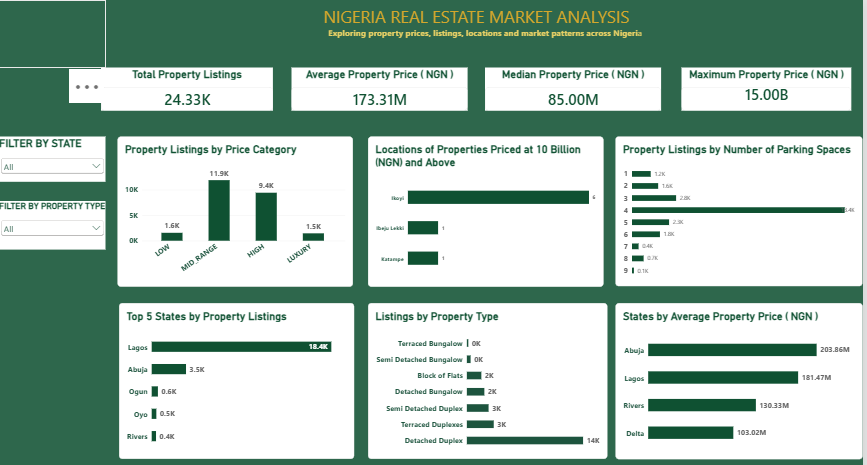

The dashboard page shown, as its layout file describes it:
{"tool":"powerbi","page":{"name":"DASHBOARD","canvas":[1920,1080],"ordinal":0},"visuals":[{"type":"cardVisual","title":"Total Property Listings","fields":{"Data":["CountNonNull(public nigeria_real_estate.price)"]},"box":[225,149.2,382.2,96.1],"z":0},{"type":"cardVisual","title":"Average Property Price ( NGN )","fields":{"Data":["Parking_Space_Summary.Avg Price"]},"box":[649,149.2,391.5,96.1],"z":1000},{"type":"cardVisual","title":"Maximum Property Price ( NGN )","fields":{"Data":["Parking_Space_Summary.Max Price Label"]},"box":[1515.8,149.2,377.5,96.1],"z":2000},{"type":"clusteredColumnChart","title":"Property Listings by Price Category","fields":{"Category":["public nigeria_real_estate.price_category"],"Y":["CountNonNull(public nigeria_real_estate.price)"]},"box":[264.9,304.8,523.4,334],"z":3000},{"type":"clusteredBarChart","title":"Locations of Properties Priced at 10 Billion (NGN)  and Above","fields":{"Category":["public nigeria_real_estate.town"],"Y":["CountNonNull(public nigeria_real_estate.town)"]},"box":[820.6,304.8,523.4,334],"z":4000},{"type":"clusteredBarChart","title":"Property Listings by Number of Parking Spaces","fields":{"Category":["Parking_Space_Summary.parking_space"],"Y":["Sum(Parking_Space_Summary.Property_Count)"]},"box":[1371.5,304.8,548.6,332.9],"z":5000},{"type":"clusteredBarChart","title":"Top 5 States by Property Listings","fields":{"Category":["public nigeria_real_estate.state"],"Y":["CountNonNull(public nigeria_real_estate.state)"]},"box":[267.3,672.9,522.8,346.6],"z":6000},{"type":"clusteredBarChart","title":"Listings by Property Type","fields":{"Category":["public nigeria_real_estate.title"],"Y":["CountNonNull(public nigeria_real_estate.title)"]},"box":[820.6,672.9,532.2,347],"z":7000},{"type":"clusteredBarChart","title":"States by Average Property Price ( NGN )","fields":{"Category":["public nigeria_real_estate.state"],"Y":["Parking_Space_Summary.Avg Price"]},"box":[1371.5,672.9,549,347],"z":8000},{"type":"slicer","title":"FILTER BY STATE","fields":{"Values":["public nigeria_real_estate.state"]},"box":[0,304.8,236.8,100.8],"z":9000},{"type":"slicer","title":"FILTER BY PROPERTY TYPE","fields":{"Values":["public nigeria_real_estate.title"]},"box":[0,447.8,236.8,107.8],"z":10000},{"type":"textbox","box":[649,9.5,821.9,52.1],"z":12000},{"type":"textbox","box":[606.3,61.6,947.4,56.8],"z":13000},{"type":"cardVisual","title":"Median Property Price ( NGN )","fields":{"Data":["Parking_Space_Summary.Median Price"]},"box":[1080.8,150,391.5,96.1],"z":13001},{"type":"textbox","box":[0,0,237,150],"z":13002},{"type":"textbox","box":[0,150,225,150],"z":13003}]}

Visuals, with their boxes on the page's 1920x1080 design canvas (x1, y1, x2, y2). These are canvas units, not pixel positions in the 867x465 screenshot, which may show the page scaled, cropped or inside an application window:
"Total Property Listings" cardVisual: 225,149,607,245
"Average Property Price ( NGN )" cardVisual: 649,149,1040,245
"Maximum Property Price ( NGN )" cardVisual: 1516,149,1893,245
"Property Listings by Price Category" clusteredColumnChart: 265,305,788,639
"Locations of Properties Priced at 10 Billion (NGN)  and Above" clusteredBarChart: 821,305,1344,639
"Property Listings by Number of Parking Spaces" clusteredBarChart: 1372,305,1920,638
"Top 5 States by Property Listings" clusteredBarChart: 267,673,790,1020
"Listings by Property Type" clusteredBarChart: 821,673,1353,1020
"States by Average Property Price ( NGN )" clusteredBarChart: 1372,673,1920,1020
"FILTER BY STATE" slicer: 0,305,237,406
"FILTER BY PROPERTY TYPE" slicer: 0,448,237,556
textbox: 649,10,1471,62
textbox: 606,62,1554,118
"Median Property Price ( NGN )" cardVisual: 1081,150,1472,246
textbox: 0,0,237,150
textbox: 0,150,225,300
